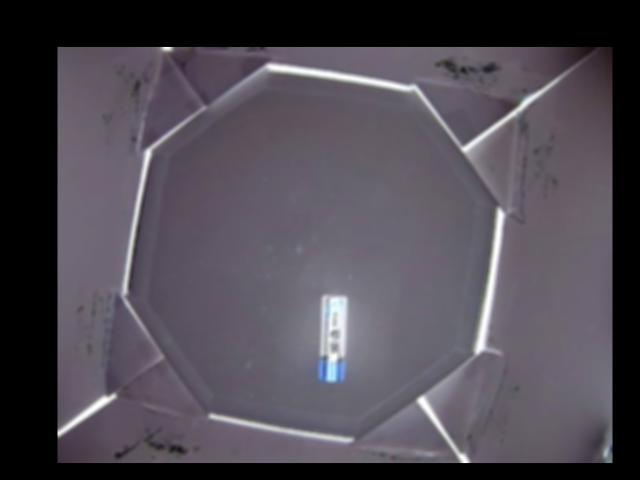Battery: (320, 294, 346, 385)
